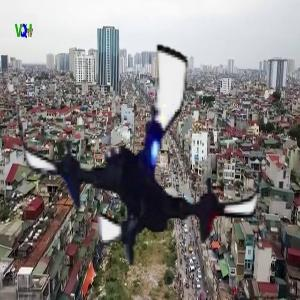drone: (12, 24, 272, 284)
